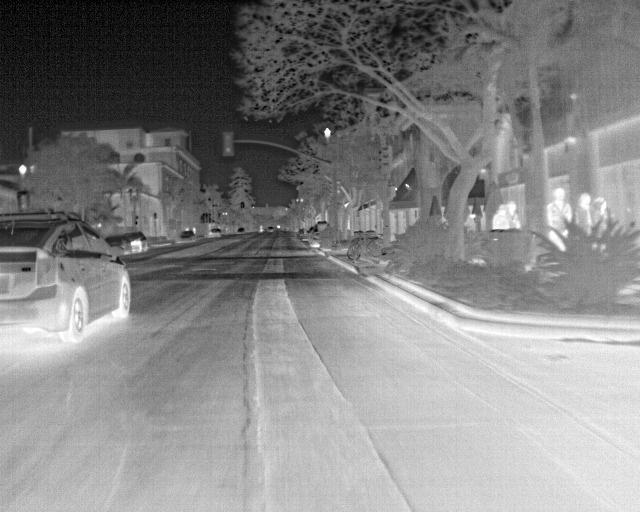bicycle: (0, 211, 129, 340), (118, 228, 145, 255), (105, 236, 133, 259), (178, 228, 198, 244), (206, 227, 224, 240)
empty: (542, 187, 572, 231), (576, 191, 595, 230), (491, 204, 509, 232), (595, 195, 611, 221), (506, 204, 520, 230)
